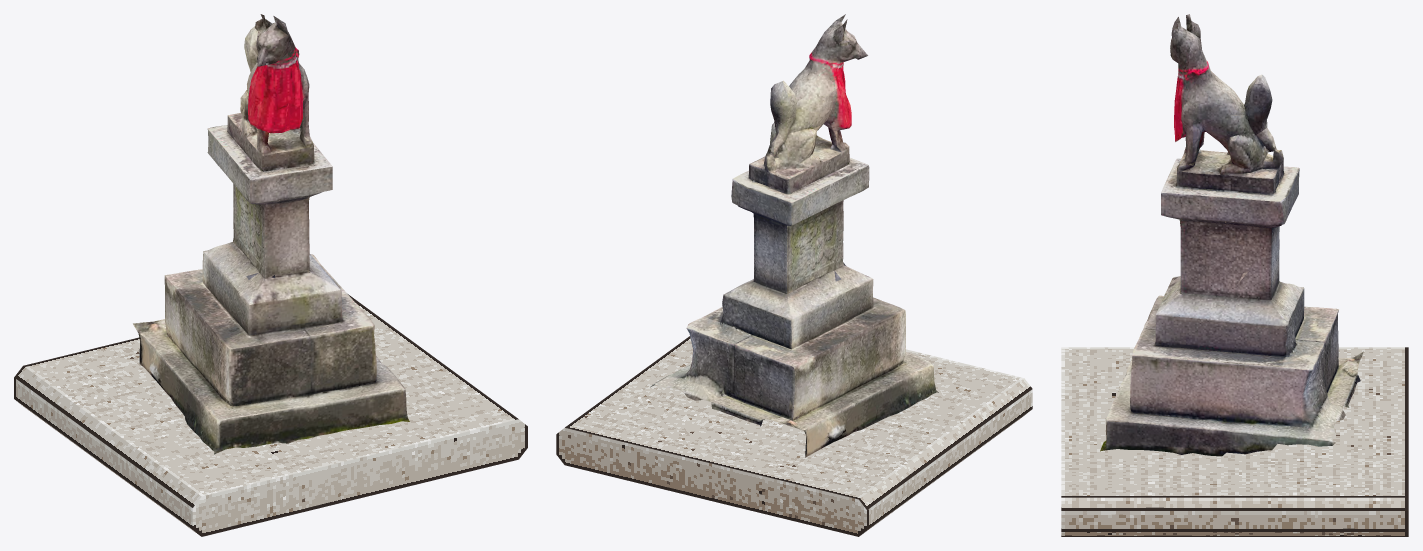
File: kitsune.glb
The picture shows the model from 3 angles, left to right: view 1: azimuth 30°, elevation 25°; view 2: azimuth 150°, elevation 25°; view 3: azimuth 270°, elevation 25°; orthographic projection. The views are drawn at different scales.
Parts seen in each view (by area): view 1: model_m, base; view 2: model_m, base; view 3: model_m, base.
Boxes of the visible parts, left/top/right/bottom form: model_m: left=133, top=14, right=409, bottom=454; base: left=14, top=294, right=527, bottom=536; model_m: left=650, top=14, right=938, bottom=457; base: left=556, top=336, right=1032, bottom=536; model_m: left=1100, top=14, right=1363, bottom=456; base: left=1061, top=347, right=1408, bottom=536.
Bounding box in the file's own units: 26 × 33 × 24.
Materials: 2 (2 with a texture image).
